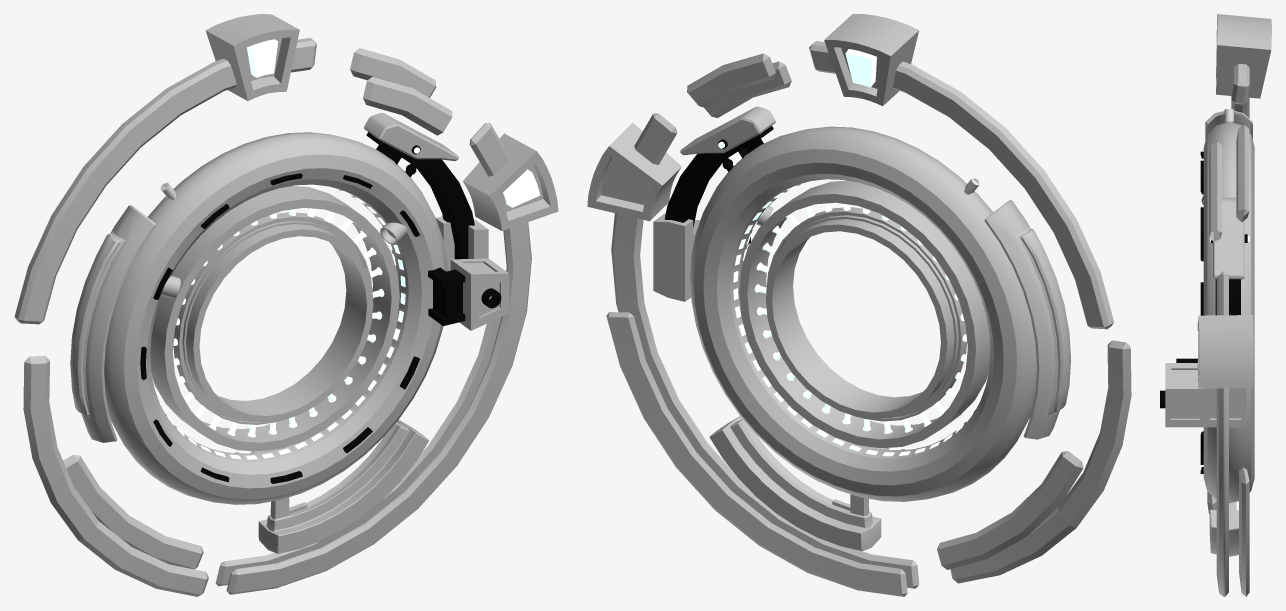
The model's file is Sci fi portal new.fbx.
3 renders of one model, left to right at view 1: azimuth 30°, elevation 25°; view 2: azimuth 150°, elevation 25°; view 3: azimuth 270°, elevation 25°, orthographic. The views are drawn at different scales.
Visible parts, largest first — view 1: Main ring, Metal ring, Outside ring, Relic, Outside ring.002, Floaty bit, Floaty bit 2, Outside ring.001, Outside ring.003, Arm supp, Black supp, Inner metal (+7 smaller); view 2: Main ring, Outside ring, Metal ring, Relic, Floaty bit, Floaty bit 2, Outside ring.002, Outside ring.003, Outside ring.001, Arm supp, Inner metal, Black supp (+4 smaller); view 3: Relic, Main ring, Outside ring, Arm supp, Outside ring.001, White wing, Floaty bit 2, Black accent, Floaty bit, Black supp.
Boxes of the visible parts, bbox=[...] form: Main ring: bbox=[104, 132, 447, 504]; Metal ring: bbox=[150, 186, 399, 451]; Outside ring: bbox=[14, 38, 531, 594]; Relic: bbox=[205, 14, 558, 230]; Outside ring.002: bbox=[23, 355, 208, 596]; Floaty bit: bbox=[70, 205, 155, 442]; Floaty bit 2: bbox=[258, 420, 429, 553]; Outside ring.001: bbox=[350, 48, 452, 135]; Outside ring.003: bbox=[63, 454, 203, 569]; Arm supp: bbox=[436, 216, 509, 330]; Black supp: bbox=[366, 132, 474, 259]; Inner metal: bbox=[165, 186, 408, 462]; Main ring: bbox=[690, 126, 1036, 501]; Outside ring: bbox=[606, 41, 1113, 596]; Metal ring: bbox=[739, 180, 990, 448]; Relic: bbox=[587, 14, 918, 221]; Floaty bit: bbox=[984, 200, 1070, 439]; Floaty bit 2: bbox=[709, 416, 881, 551]; Outside ring.002: bbox=[950, 340, 1131, 583]; Outside ring.003: bbox=[937, 451, 1083, 569]; Outside ring.001: bbox=[687, 53, 791, 117]; Arm supp: bbox=[653, 213, 700, 301]; Inner metal: bbox=[730, 181, 975, 458]; Black supp: bbox=[664, 126, 773, 227]; Relic: bbox=[1197, 14, 1271, 388]; Main ring: bbox=[1203, 122, 1254, 502]; Outside ring: bbox=[1216, 63, 1249, 596]; Arm supp: bbox=[1165, 363, 1246, 427]; Outside ring.001: bbox=[1209, 124, 1249, 241]; White wing: bbox=[1213, 197, 1244, 279]; Floaty bit 2: bbox=[1209, 502, 1238, 556]; Black accent: bbox=[1200, 151, 1203, 473]; Floaty bit: bbox=[1205, 111, 1252, 140]; Black supp: bbox=[1215, 279, 1240, 315].
Bounding box in the file's own units: 367 × 374 × 70.24.
